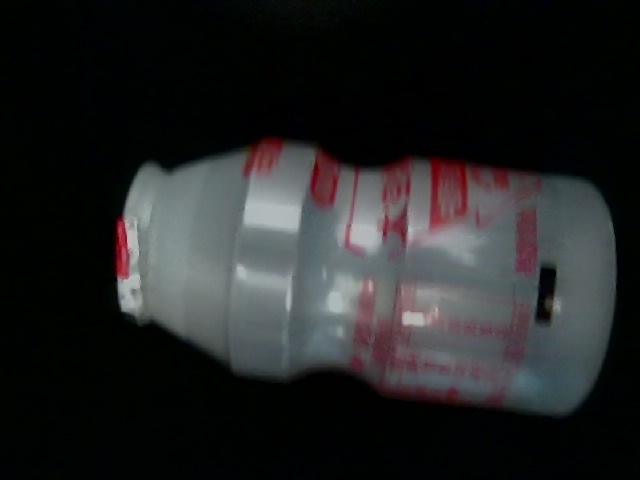CYLJ: (2, 120, 224, 480)
